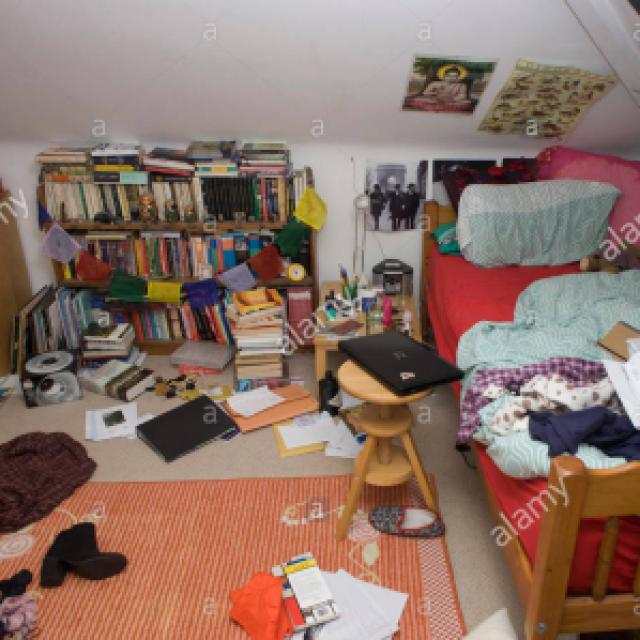mess: (7, 257, 446, 640)
